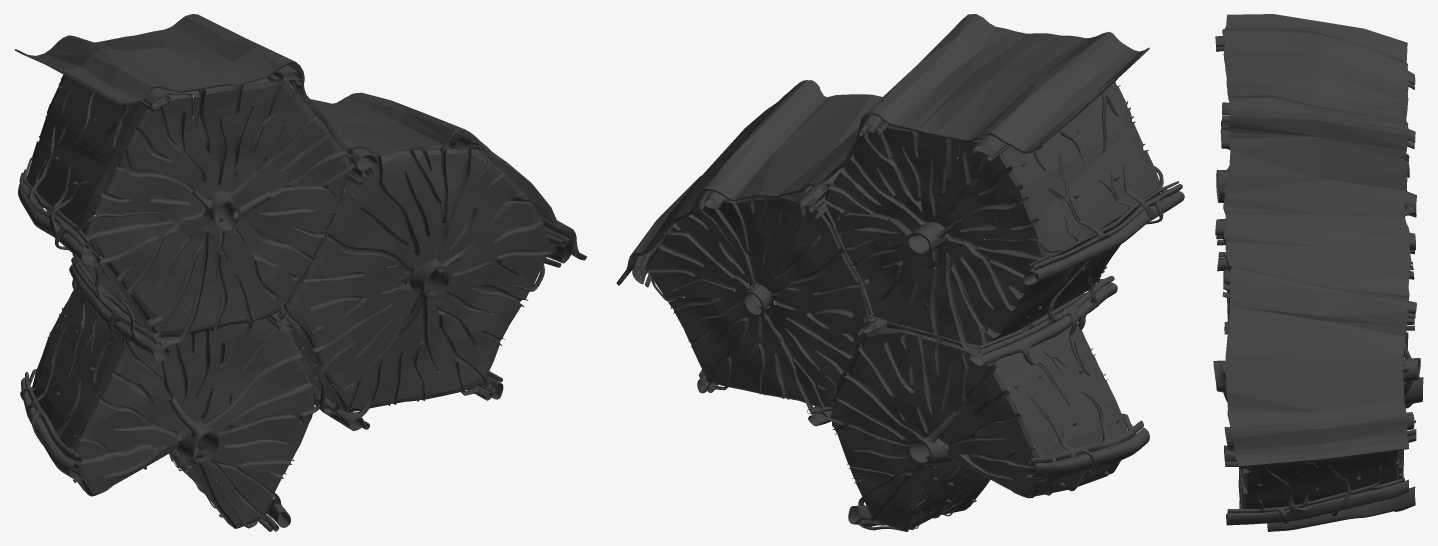
The model's file is sharedassets77.glb.
3 views of the same model, side by side, from view 1: azimuth 30°, elevation 25°; view 2: azimuth 150°, elevation 25°; view 3: azimuth 270°, elevation 25° (orthographic). The views are drawn at different scales.
Parts seen in each view (by area): view 1: 0003_Hepatocytes_1_303496, 0000_Sinusoids__303504, 0001_Hepatocytes_2_303497, 0006_Hepatocytes_3_303498, 0009_Connective tissue__303495, 0004_Branches of hepatic portal vein__303502, 0007_Central veins__303503, 0005_Branches of hepatic artery__303501, 0008_Bile canaliculi__303499, 0002_Branches of bile duct__303500; view 2: 0003_Hepatocytes_1_303496, 0009_Connective tissue__303495, 0006_Hepatocytes_3_303498, 0000_Sinusoids__303504, 0001_Hepatocytes_2_303497, 0004_Branches of hepatic portal vein__303502, 0005_Branches of hepatic artery__303501, 0007_Central veins__303503, 0002_Branches of bile duct__303500, 0008_Bile canaliculi__303499; view 3: 0009_Connective tissue__303495, 0004_Branches of hepatic portal vein__303502, 0001_Hepatocytes_2_303497, 0007_Central veins__303503, 0000_Sinusoids__303504, 0002_Branches of bile duct__303500, 0005_Branches of hepatic artery__303501, 0008_Bile canaliculi__303499.
Boxes of the visible parts, left/top/right/bottom form: 0003_Hepatocytes_1_303496: left=27, top=74, right=349, bottom=336; 0000_Sinusoids__303504: left=29, top=78, right=548, bottom=523; 0001_Hepatocytes_2_303497: left=276, top=144, right=550, bottom=412; 0006_Hepatocytes_3_303498: left=32, top=275, right=314, bottom=528; 0009_Connective tissue__303495: left=15, top=14, right=586, bottom=399; 0004_Branches of hepatic portal vein__303502: left=18, top=65, right=572, bottom=527; 0007_Central veins__303503: left=150, top=191, right=450, bottom=463; 0005_Branches of hepatic artery__303501: left=19, top=78, right=565, bottom=531; 0008_Bile canaliculi__303499: left=20, top=91, right=544, bottom=528; 0002_Branches of bile duct__303500: left=23, top=75, right=561, bottom=531; 0003_Hepatocytes_1_303496: left=825, top=81, right=1160, bottom=345; 0009_Connective tissue__303495: left=616, top=14, right=1149, bottom=407; 0006_Hepatocytes_3_303498: left=830, top=309, right=1128, bottom=529; 0000_Sinusoids__303504: left=649, top=79, right=1163, bottom=531; 0001_Hepatocytes_2_303497: left=646, top=186, right=879, bottom=407; 0004_Branches of hepatic portal vein__303502: left=632, top=80, right=1184, bottom=525; 0005_Branches of hepatic artery__303501: left=640, top=129, right=1182, bottom=526; 0007_Central veins__303503: left=743, top=213, right=952, bottom=468; 0002_Branches of bile duct__303500: left=644, top=123, right=1178, bottom=525; 0008_Bile canaliculi__303499: left=651, top=136, right=1163, bottom=529; 0009_Connective tissue__303495: left=1222, top=14, right=1411, bottom=468; 0004_Branches of hepatic portal vein__303502: left=1215, top=36, right=1416, bottom=531; 0001_Hepatocytes_2_303497: left=1227, top=261, right=1401, bottom=508; 0007_Central veins__303503: left=1213, top=169, right=1423, bottom=408; 0000_Sinusoids__303504: left=1222, top=165, right=1413, bottom=516; 0002_Branches of bile duct__303500: left=1216, top=46, right=1415, bottom=513; 0005_Branches of hepatic artery__303501: left=1216, top=46, right=1416, bottom=519; 0008_Bile canaliculi__303499: left=1257, top=466, right=1381, bottom=523.
Bounding box in the file's own units: 0.3086 × 0.285 × 0.1241.
1 material, 1 textured.
